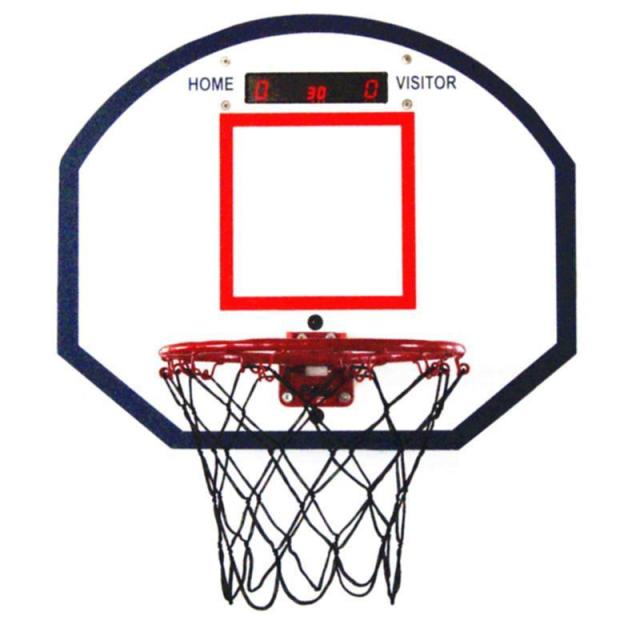rim: (160, 338, 470, 600)
